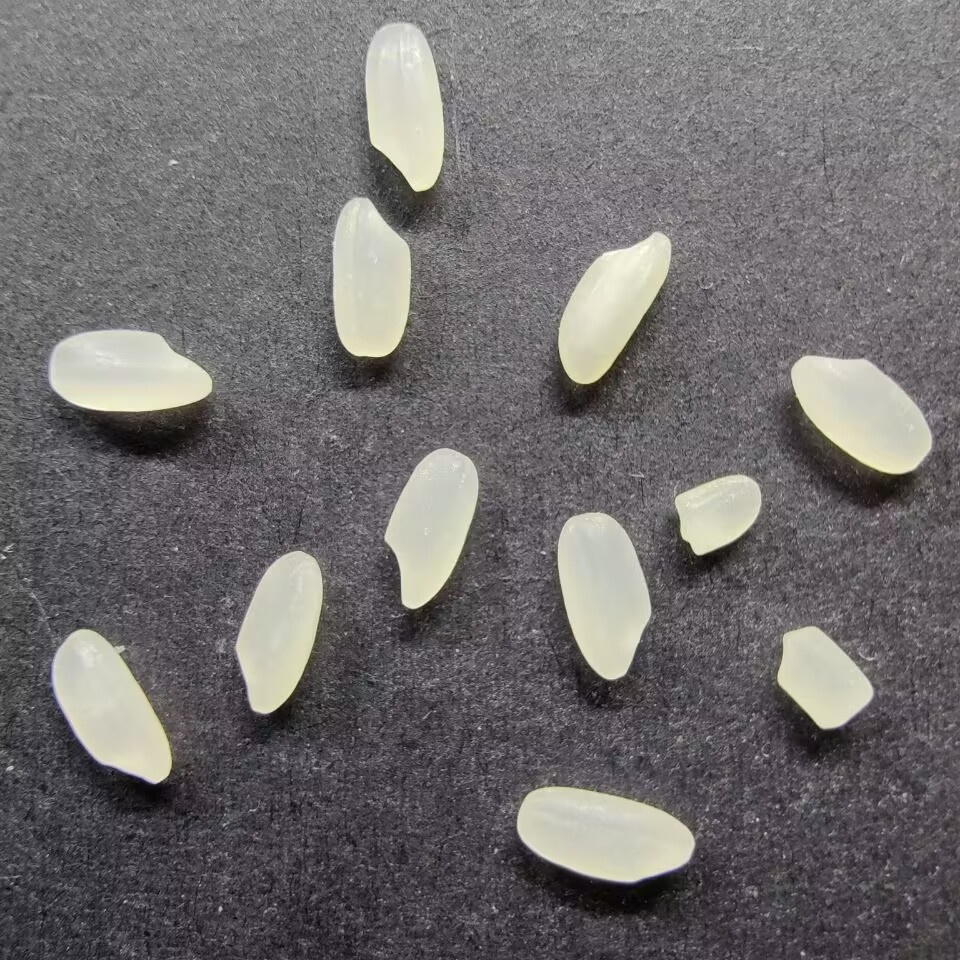broken: (775, 623, 875, 732), (672, 472, 764, 557)
rice: (49, 627, 172, 785), (514, 785, 696, 884), (556, 231, 672, 385), (790, 352, 933, 474), (556, 511, 653, 681), (383, 448, 479, 610), (234, 550, 323, 715), (46, 327, 214, 413), (363, 21, 444, 192), (330, 195, 411, 357)
